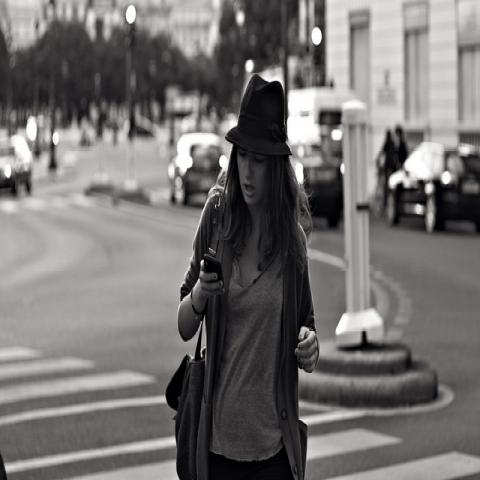car: (383, 137, 479, 235), (290, 144, 343, 230), (168, 132, 228, 204), (0, 130, 34, 196), (125, 114, 158, 140)
